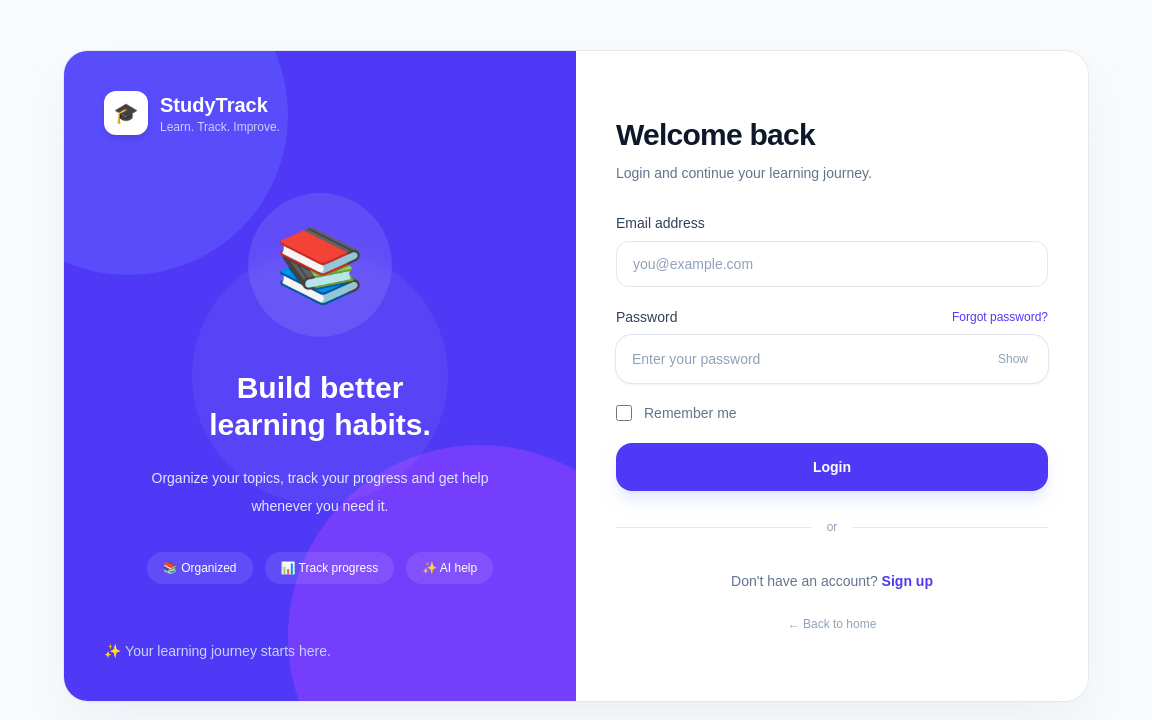
Login Page › shows validation for invalid email
In the field labelled "Email address": [832, 264] box [616, 241, 1048, 287], type "invalid-email"
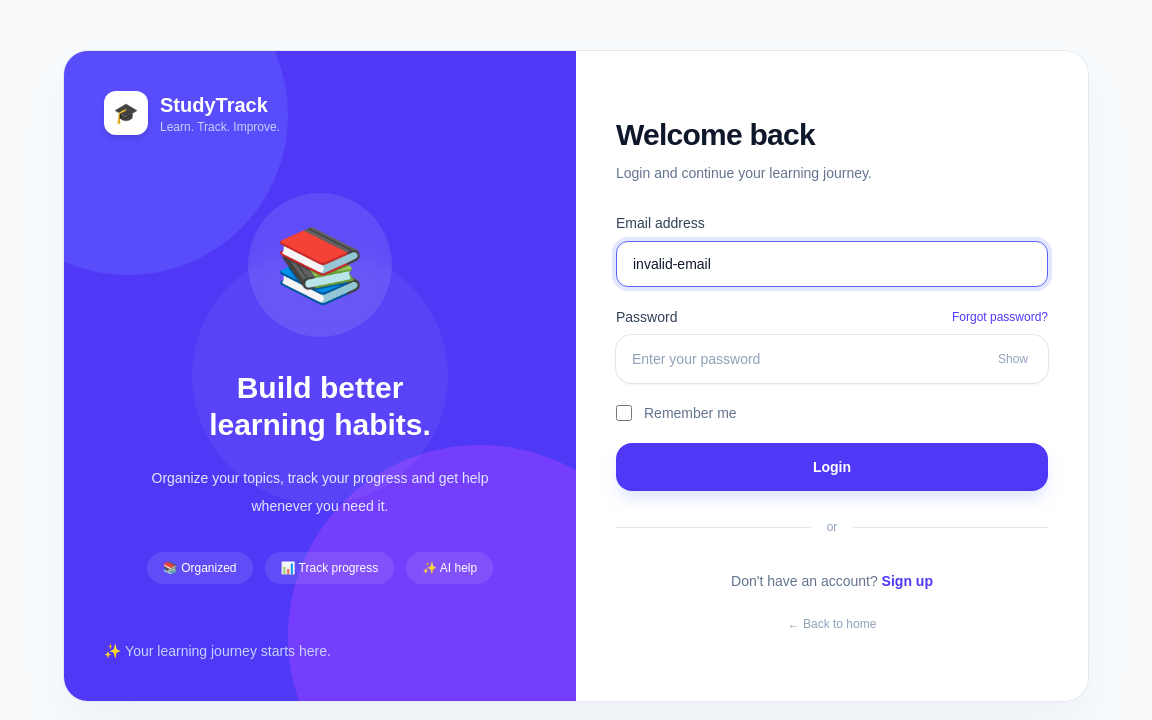
In the password field labelled "Password": [832, 359] box [616, 335, 1048, 383], type "Password123"
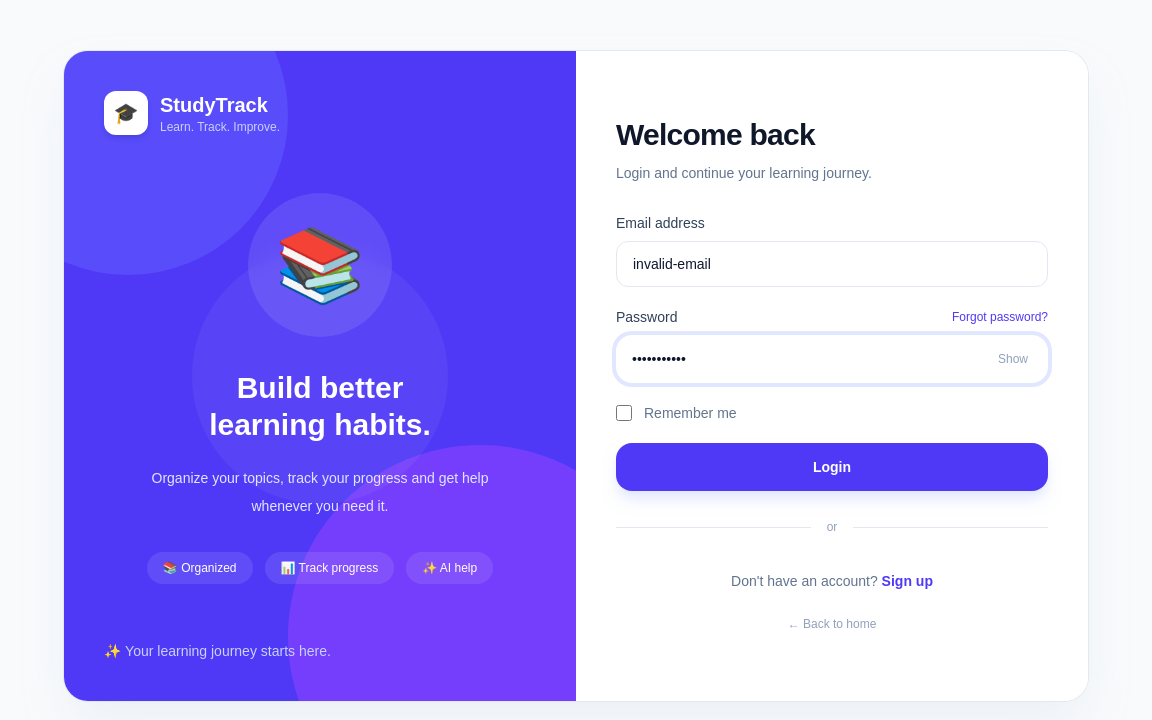
Click the button "Login": [832, 467] box [616, 443, 1048, 491]
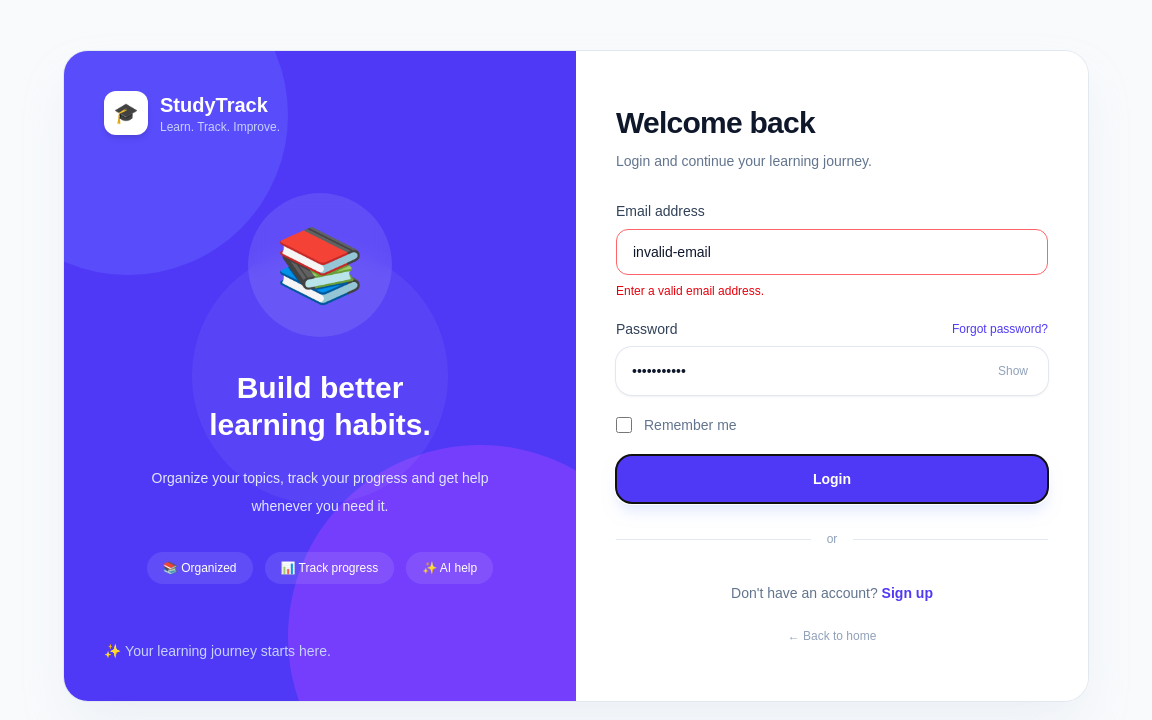
Check: the text "Enter a valid email address." is shown, box [616, 284, 764, 298]
